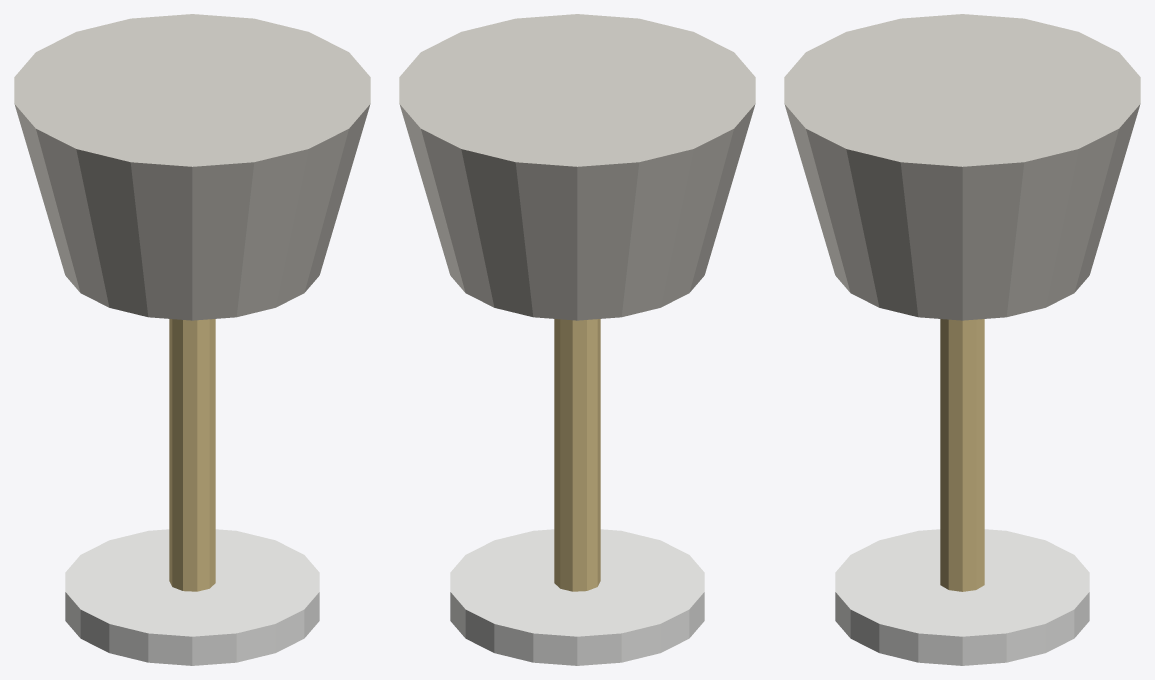
File: tableLamp.glb
3 views of the same model, side by side, from view 1: azimuth 30°, elevation 25°; view 2: azimuth 150°, elevation 25°; view 3: azimuth 270°, elevation 25° (orthographic).
Visible parts, largest first — view 1: tableLamp; view 2: tableLamp; view 3: tableLamp.
Part boxes in pixels (box(x1,y1,x2,y2)): tableLamp: box(14, 14, 370, 665); tableLamp: box(399, 14, 755, 665); tableLamp: box(784, 14, 1140, 665).
Bounding box in the file's own units: 28 × 44.5 × 27.57.
